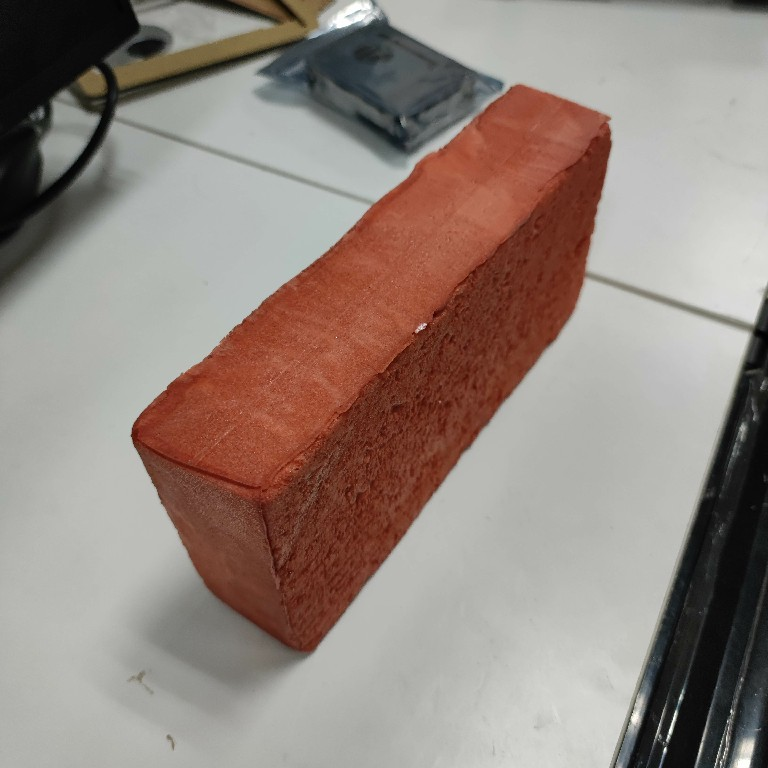brick: (125, 77, 622, 654)
